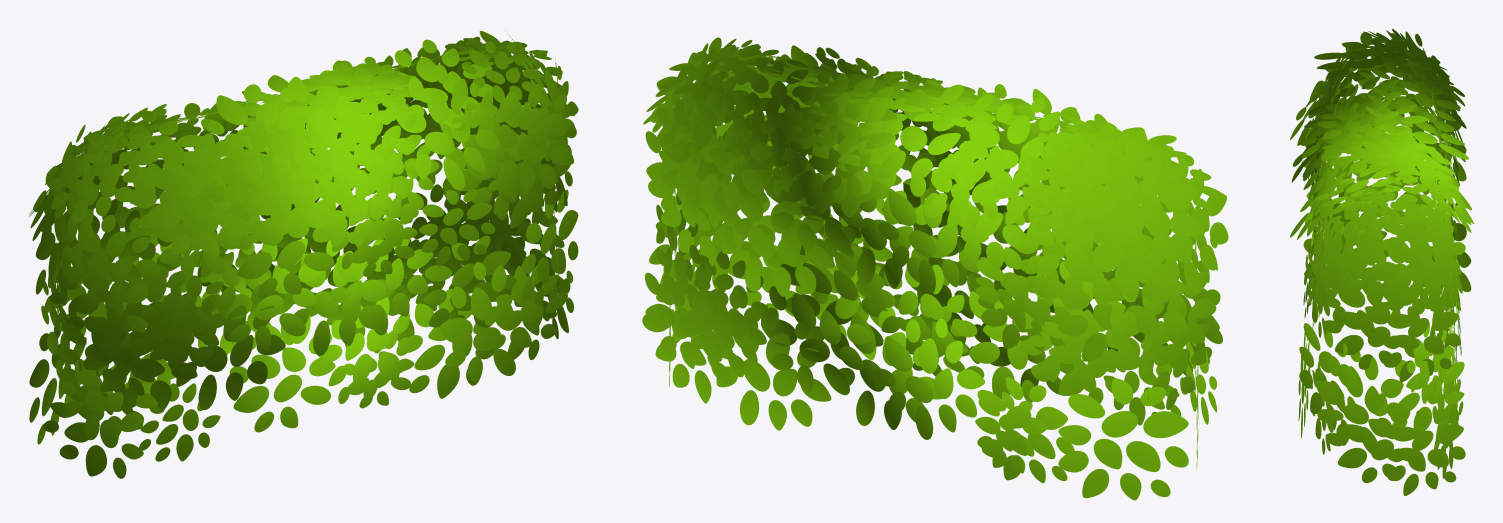
Rendered from Bush_Large.glb.
3 views of the same model, side by side, from view 1: azimuth 30°, elevation 25°; view 2: azimuth 150°, elevation 25°; view 3: azimuth 270°, elevation 25° (orthographic). The views are drawn at different scales.
Parts seen in each view (by area): view 1: Bush_Large; view 2: Bush_Large; view 3: Bush_Large.
Part boxes in pixels (left/top/right/bottom): Bush_Large: left=29, top=31, right=578, bottom=478; Bush_Large: left=642, top=37, right=1228, bottom=500; Bush_Large: left=1290, top=28, right=1473, bottom=495.
Bounding box in the file's own units: 1.9 × 1.22 × 0.7239.
Materials: 1 (1 with a texture image).
